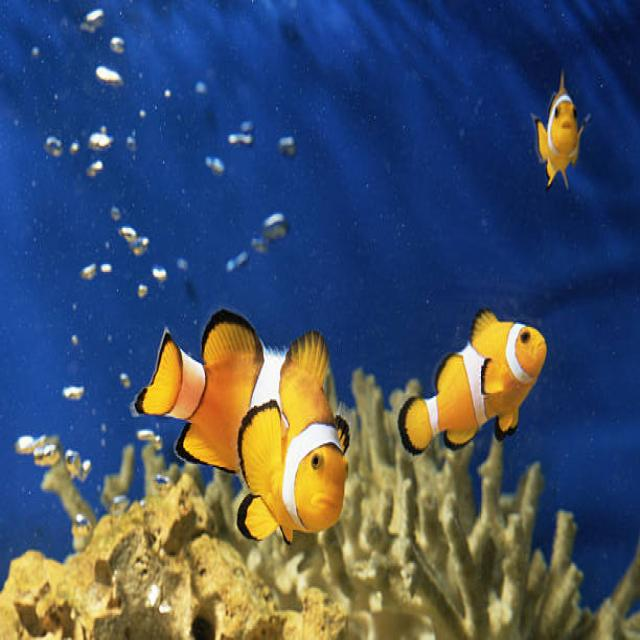ClownFish: (132, 310, 349, 533), (398, 308, 546, 475), (531, 70, 590, 194)
